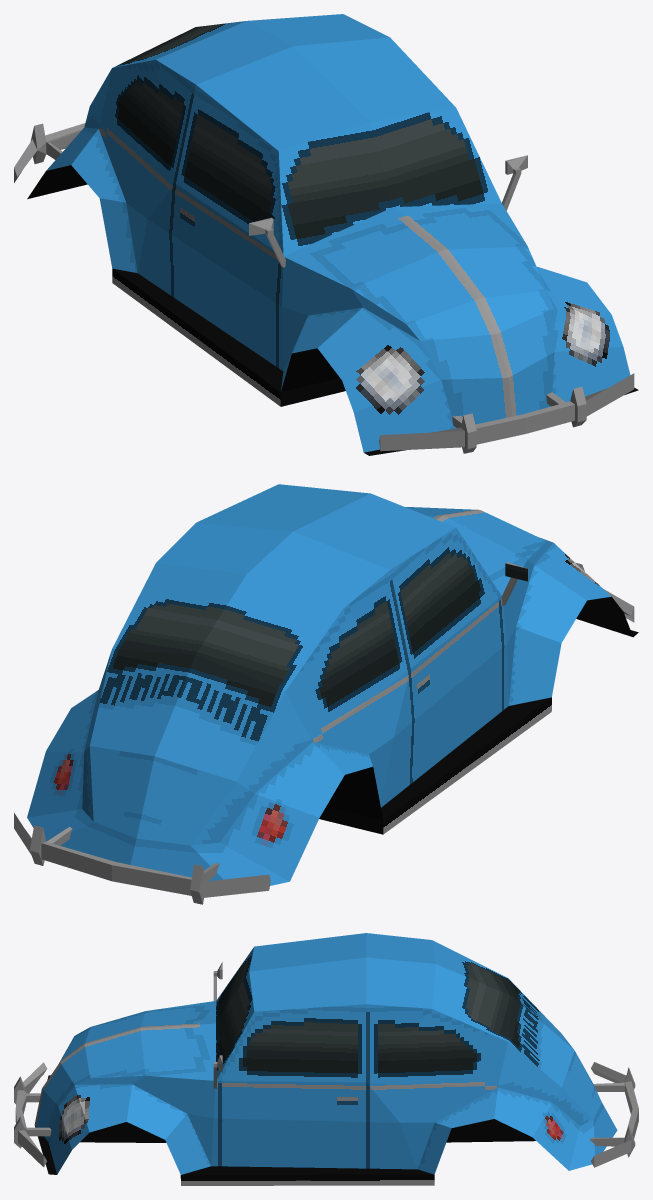
Rendered from hatchback_body.glb.
The picture shows the model from 3 angles, top to bottom: view 1: azimuth 30°, elevation 25°; view 2: azimuth 150°, elevation 25°; view 3: azimuth 270°, elevation 25°; orthographic projection. The views are drawn at different scales.
Visible parts, largest first — view 1: compact_classic; view 2: compact_classic; view 3: compact_classic.
Part boxes in pixels (<box>): compact_classic: <box>14,14,638,455</box>; compact_classic: <box>14,484,638,904</box>; compact_classic: <box>14,933,638,1185</box>.
Size of the model in its own units: 1.58 by 1.28 by 4.06.
Materials: 1 (1 with a texture image).
